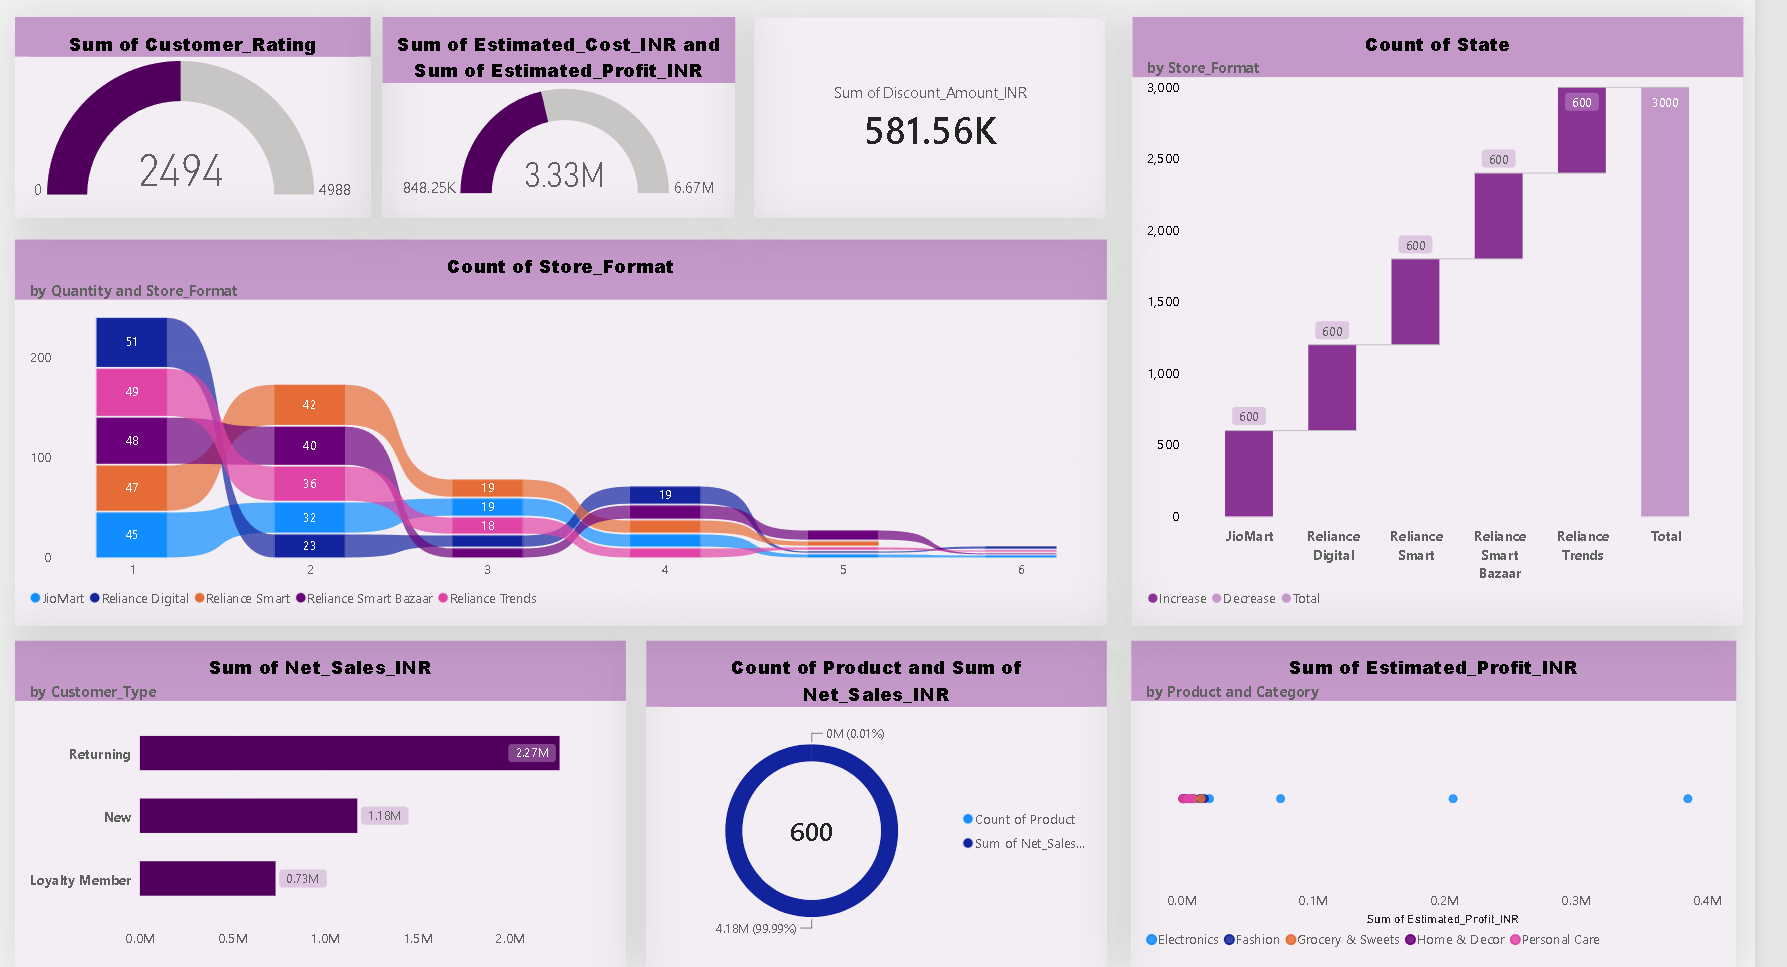

The page's visual inventory and layout, read from the dashboard file:
{"tool":"powerbi","page":{"name":"Page 2","canvas":[1920,1080],"ordinal":1},"visuals":[{"type":"barChart","fields":{"Category":["Diwali_Sales.Customer_Type","Diwali_Sales.Gross_Sales_INR"],"Y":["Sum(Diwali_Sales.Net_Sales_INR)"]},"box":[22,708,666,356],"z":0},{"type":"donutChart","fields":{"Y":["CountNonNull(Diwali_Sales.Product)","Sum(Diwali_Sales.Net_Sales_INR)"]},"box":[710,708,502,358],"z":1000},{"type":"scatterChart","fields":{"Category":["Diwali_Sales.Product"],"Series":["Diwali_Sales.Category"],"X":["Sum(Diwali_Sales.Estimated_Profit_INR)"]},"box":[1240,708,660,356],"z":2000},{"type":"ribbonChart","fields":{"Category":["Diwali_Sales.Quantity"],"Series":["Diwali_Sales.Store_Format"],"Y":["CountNonNull(Diwali_Sales.Store_Format)"]},"box":[22.1,270.6,1190.8,421.5],"z":3000},{"type":"gauge","fields":{"Y":["Sum(Diwali_Sales.Customer_Rating)"]},"box":[22.1,27.6,388.3,219],"z":4000},{"type":"gauge","fields":{"MinValue":["Sum(Diwali_Sales.Estimated_Profit_INR)"],"Y":["Sum(Diwali_Sales.Estimated_Cost_INR)"]},"box":[423.3,27.6,384.7,219],"z":5000},{"type":"cardVisual","fields":{"Data":["Sum(Diwali_Sales.Discount_Amount_INR)"]},"box":[828.2,27.6,384.7,219],"z":6000},{"type":"waterfallChart","fields":{"Category":["Diwali_Sales.Store_Format"],"Y":["CountNonNull(Data.State)"]},"box":[1240.5,27.6,666.3,664.4],"z":7000}]}

Visuals, with their boxes on the page's 1920x1080 design canvas (x1, y1, x2, y2). These are canvas units, not pixel positions in the 1787x967 screenshot, which may show the page scaled, cropped or inside an application window:
barChart - Diwali_Sales.Customer_Type x Diwali_Sales.Gross_Sales_INR: x1=22 y1=708 x2=688 y2=1064
donutChart - CountNonNull(Diwali_Sales.Product) x Sum(Diwali_Sales.Net_Sales_INR): x1=710 y1=708 x2=1212 y2=1066
scatterChart - Diwali_Sales.Product x Diwali_Sales.Category: x1=1240 y1=708 x2=1900 y2=1064
ribbonChart - Diwali_Sales.Quantity x Diwali_Sales.Store_Format: x1=22 y1=271 x2=1213 y2=692
gauge - Sum(Diwali_Sales.Customer_Rating): x1=22 y1=28 x2=410 y2=247
gauge - Sum(Diwali_Sales.Estimated_Profit_INR) x Sum(Diwali_Sales.Estimated_Cost_INR): x1=423 y1=28 x2=808 y2=247
cardVisual - Sum(Diwali_Sales.Discount_Amount_INR): x1=828 y1=28 x2=1213 y2=247
waterfallChart - Diwali_Sales.Store_Format x CountNonNull(Data.State): x1=1240 y1=28 x2=1907 y2=692
